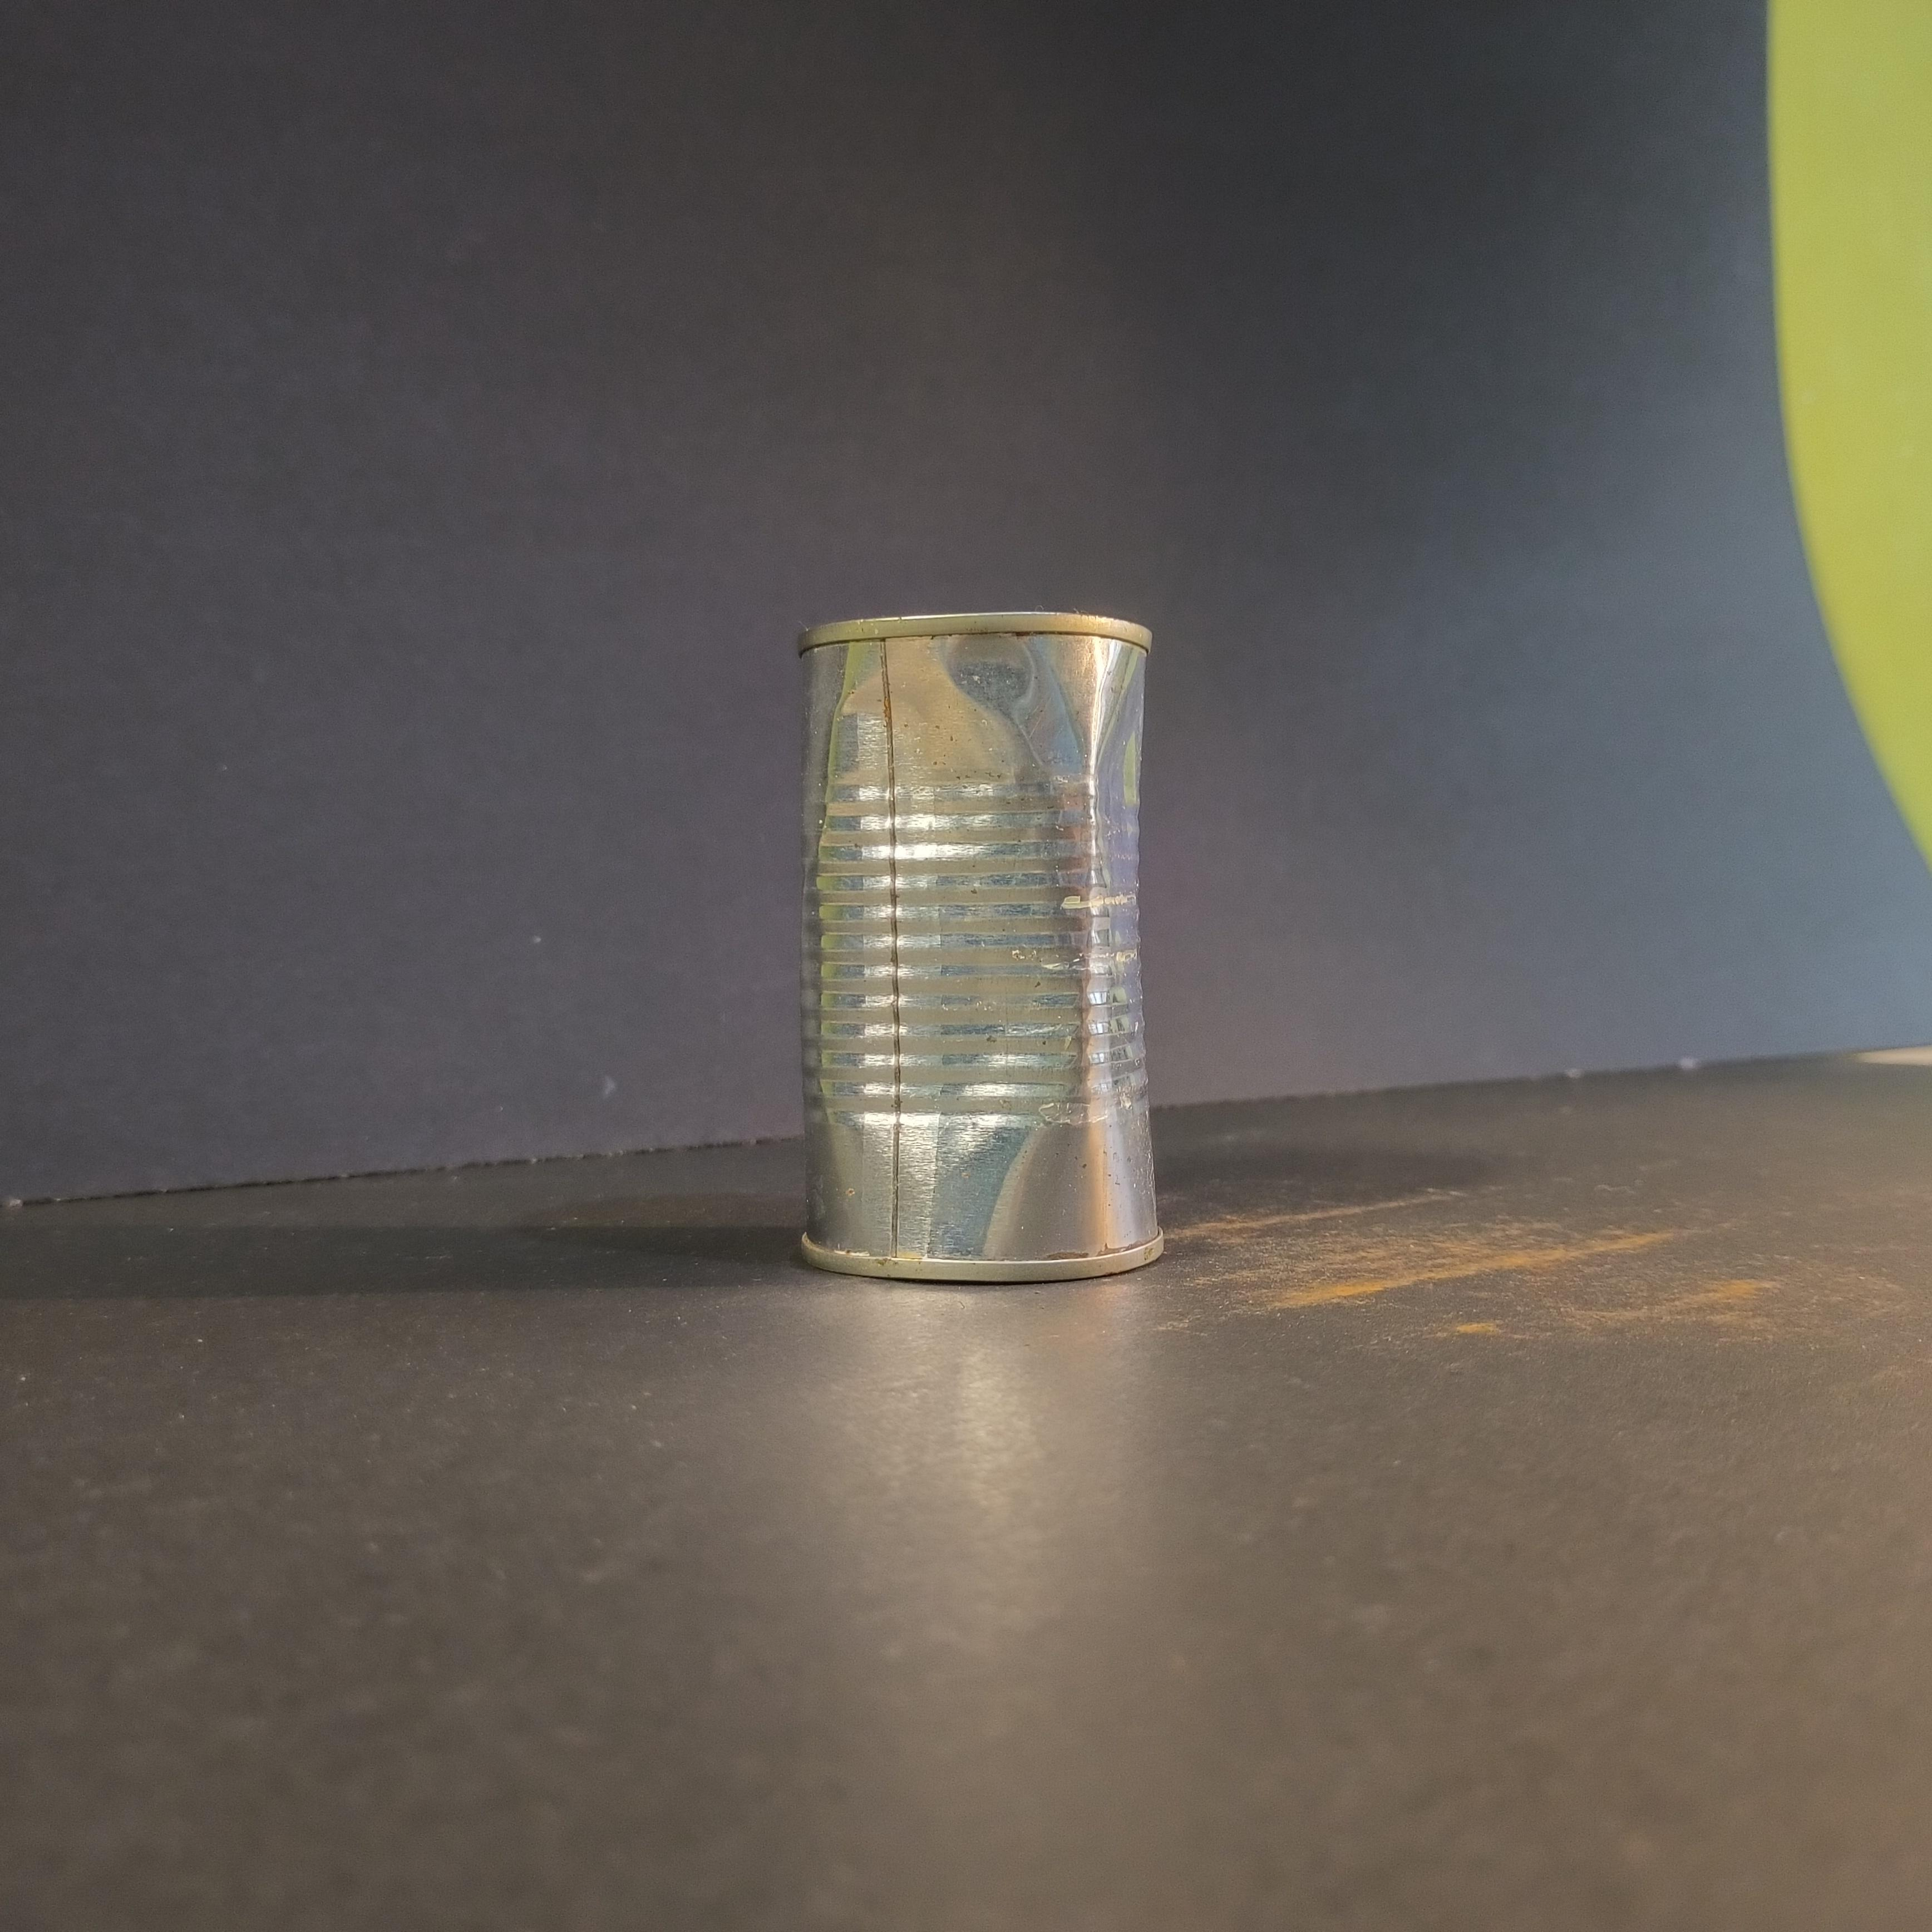Dented: (787, 579, 1191, 1306)
